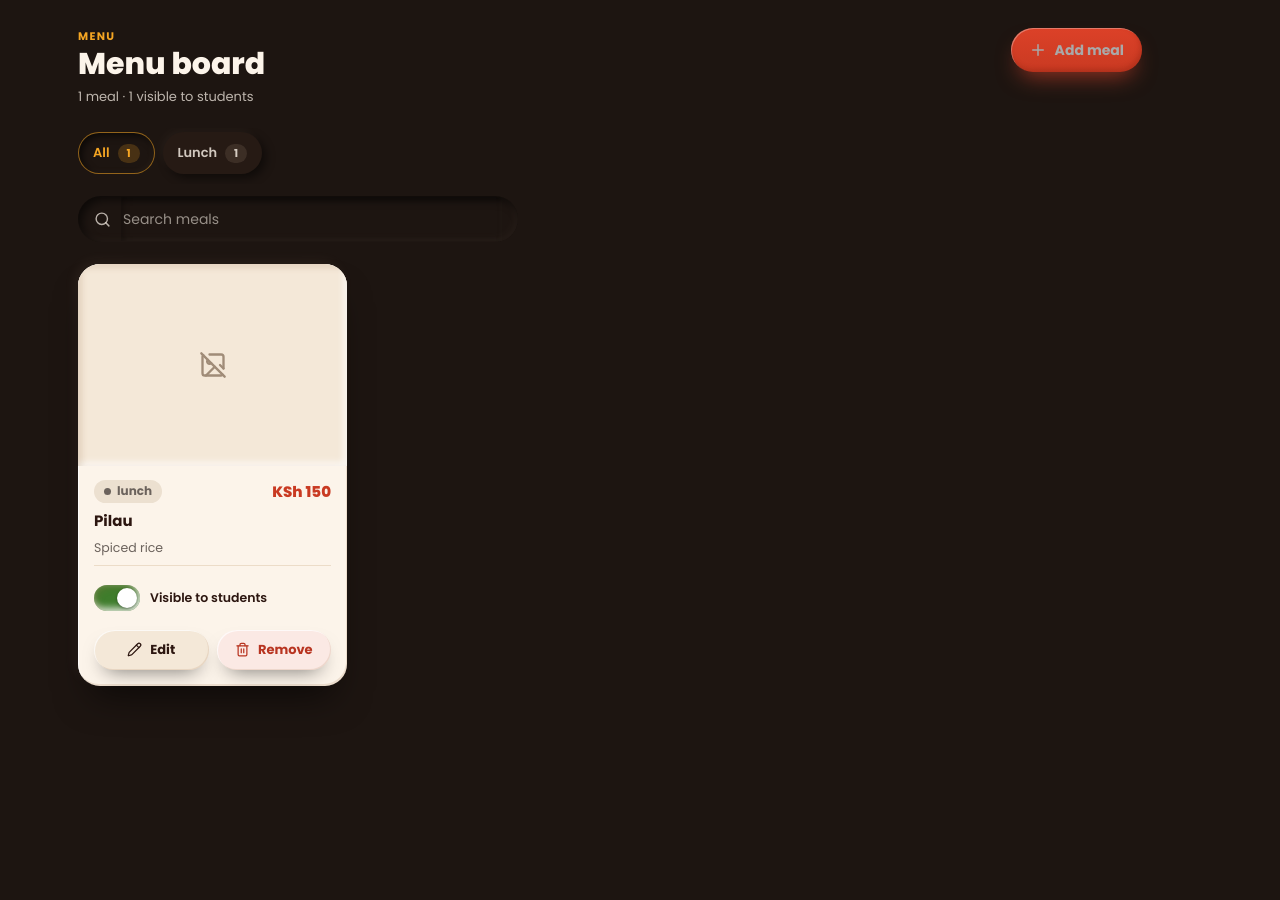
Menu screen › edits a meal and sends only the fields that changed
The width and height of the screenshot is (1280, 900).
Click the button with aria-label "Edit Pilau". click: click(151, 650)
box: left=94, top=630, right=208, bottom=670
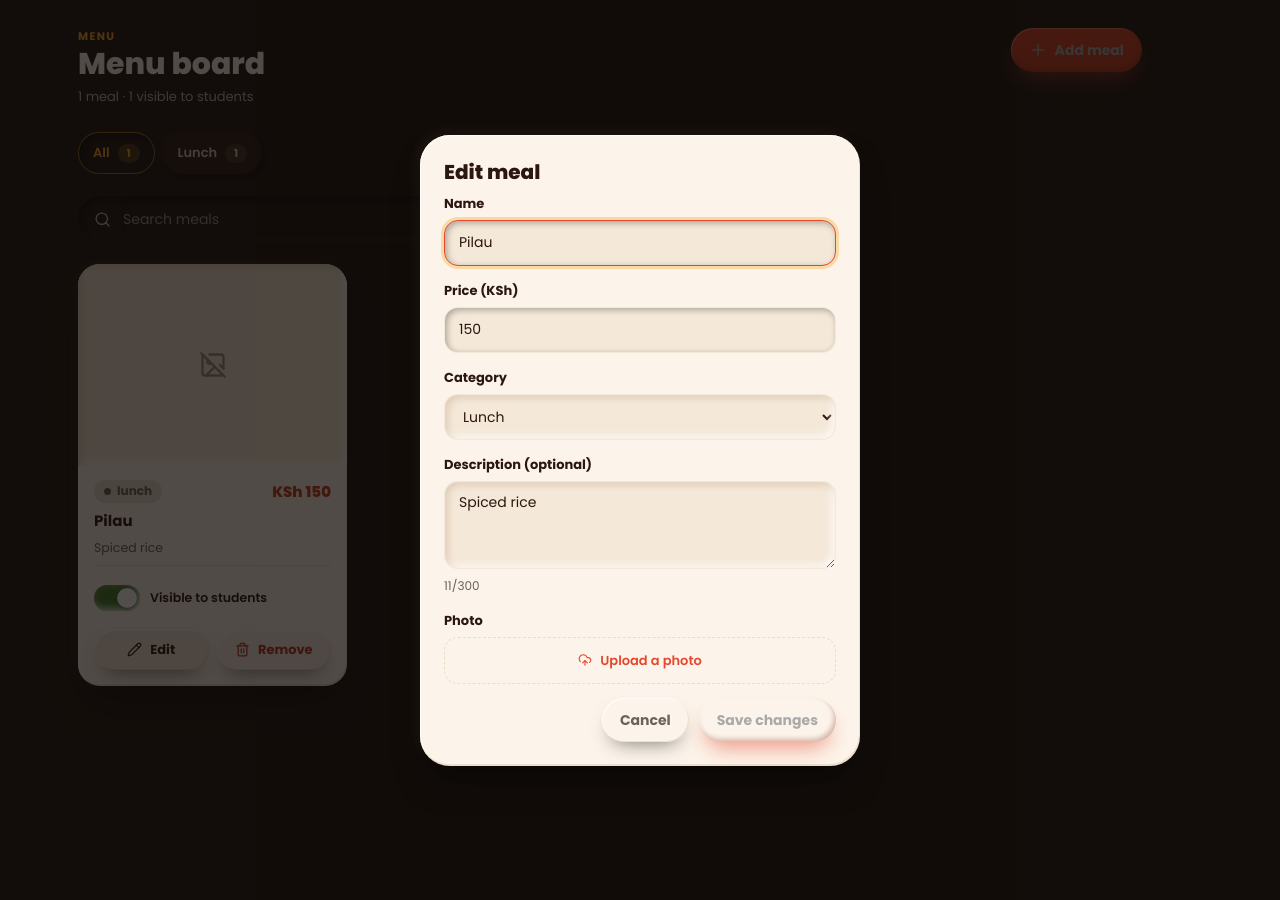
Replace the text in the field labelled "Price (KSh)" with "180". click: (640, 330)
box: left=444, top=306, right=836, bottom=352
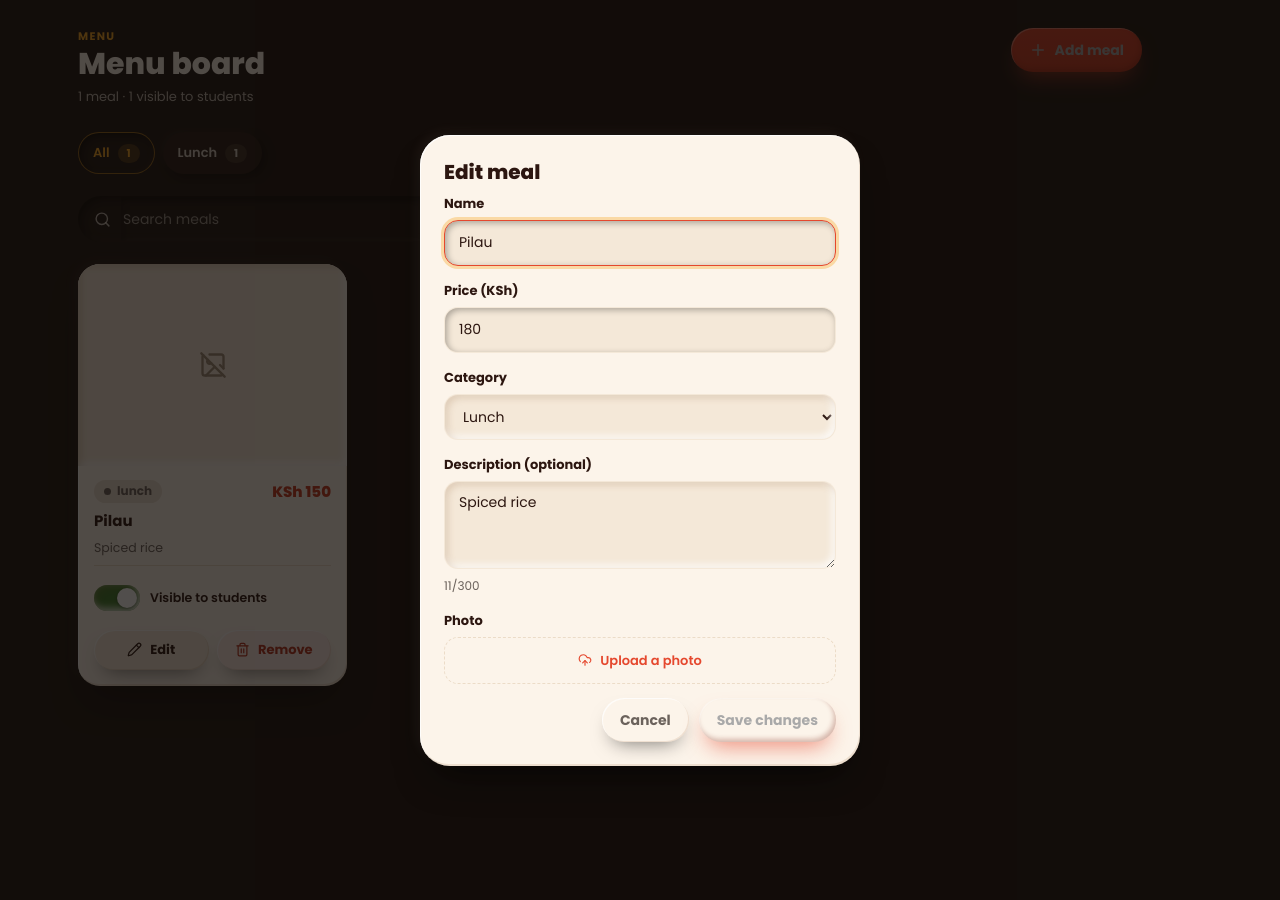
Click the button "Save changes". click: click(767, 720)
box: left=699, top=698, right=836, bottom=742
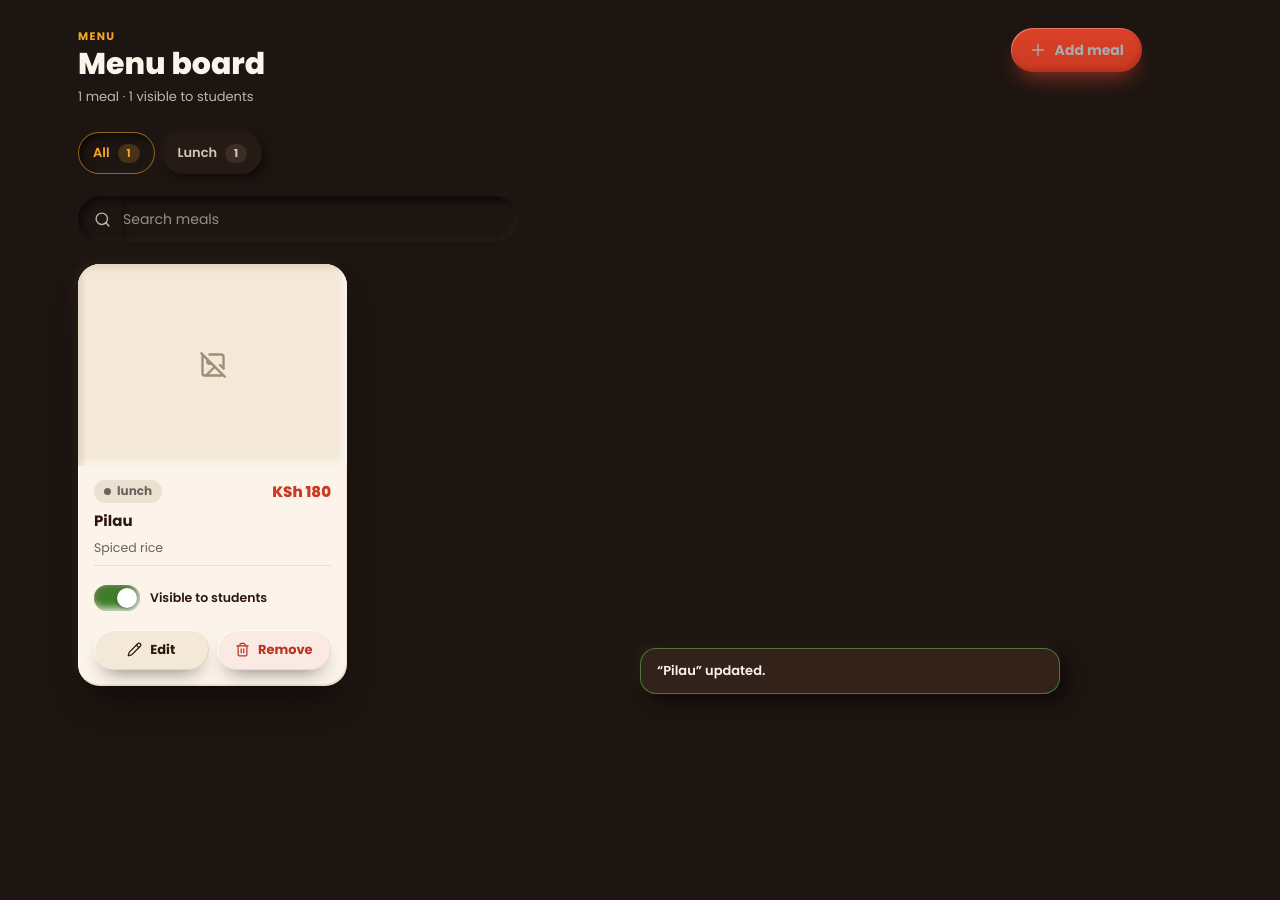
Expected: the text "KSh 180" is shown, left=272, top=480, right=331, bottom=503
